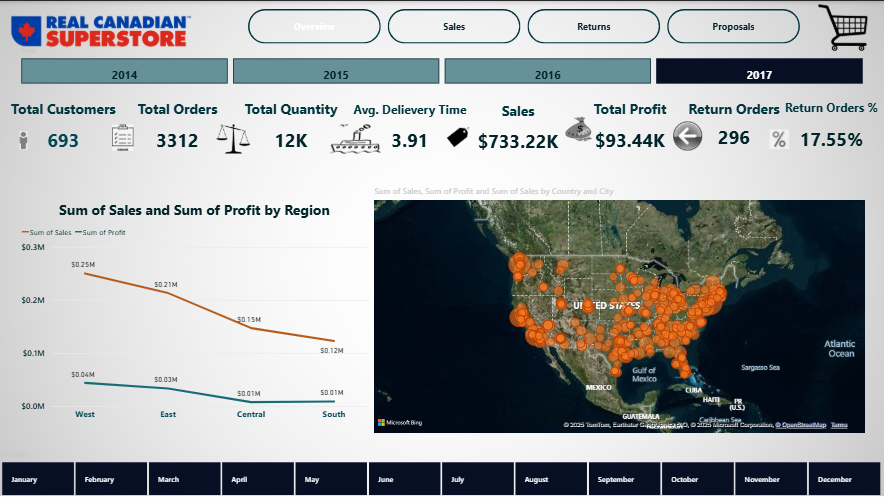

The dashboard page shown, as its layout file describes it:
{"tool":"powerbi","page":{"name":"Overview","canvas":[1280,720],"ordinal":0},"visuals":[{"type":"card","title":"Total Customers","fields":{"Values":["Count(Orders.Customer ID)"]},"box":[11.8,141.1,163.1,94],"z":0},{"type":"card","title":"Total Orders","fields":{"Values":["CountNonNull(Orders.Order ID)"]},"box":[174.9,141.7,166.3,94],"z":1000},{"type":"card","title":"Total Quantity","fields":{"Values":["Sum(Orders.Quantity)"]},"box":[341.2,141.7,161.9,94],"z":2000},{"type":"card","title":"Avg. Delievery Time","fields":{"Values":["Avg(Orders.Delivery Time)"]},"box":[503.1,144.6,182.2,91.1],"z":3000},{"type":"card","title":"Sales","fields":{"Values":["Sum(Orders.Sales)"]},"box":[666.5,144.6,167.7,91.1],"z":4000},{"type":"card","title":"Total Profit","fields":{"Values":["Sum(Orders.Profit)"]},"box":[824.1,141.7,176.4,94],"z":5000},{"type":"advancedSlicerVisual","fields":{"Values":["Orders.Order Date.Variation.Date Hierarchy.Year"]},"box":[27.5,62.2,1228.9,62.2],"z":6000},{"type":"card","title":"Return Orders","fields":{"Values":["CountNonNull(Returns.Returned)"]},"box":[987.5,141.7,150.4,83.9],"z":7000},{"type":"advancedSlicerVisual","fields":{"Values":["Orders.Order Date.Variation.Date Hierarchy.Month"]},"box":[0,646.3,1279.5,73.7],"z":8000},{"type":"card","title":"Return Orders %","fields":{"Values":["Orders.% Returned Orders"]},"box":[1127.7,141.7,151.8,94],"z":9000},{"type":"lineChart","fields":{"Category":["Orders.Region"],"Y":["Sum(Orders.Sales)","Sum(Orders.Profit)"]},"box":[27.9,288,509.9,327.7],"z":10000},{"type":"map","fields":{"Category":["Orders.Country","Orders.City"],"Size":["Sum(Orders.Sales)"]},"box":[537.8,266,718.5,362.9],"z":11000},{"type":"image","box":[11.6,182.2,47.7,39],"z":12000},{"type":"image","box":[11.6,11.6,271.8,65.1],"z":13000},{"type":"pageNavigator","box":[360,11.6,799.5,50.6],"z":14000},{"type":"image","box":[147.5,173.5,62.2,47.7],"z":15000},{"type":"image","box":[1159.5,0,120,76.6],"z":16000},{"type":"image","box":[465.5,173.5,98.3,52],"z":17000},{"type":"image","box":[302.2,173.5,73.7,52],"z":18000},{"type":"image","box":[641.9,169.2,43.4,56.4],"z":19000},{"type":"image","box":[814,144.6,47.7,81],"z":20000},{"type":"image","box":[968.7,169.2,54.9,52],"z":21000},{"type":"image","box":[1108.9,164.8,37.6,69.4],"z":22000}]}

Visuals, with their boxes in screenshot pixels (x1, y1, x2, y2), scaled from the page's 1280x720 canvas onto the 884x497 screenshot:
"Total Customers" card: [8, 97, 121, 162]
"Total Orders" card: [121, 98, 236, 163]
"Total Quantity" card: [236, 98, 347, 163]
"Avg. Delievery Time" card: [347, 100, 473, 163]
"Sales" card: [460, 100, 576, 163]
"Total Profit" card: [569, 98, 691, 163]
advancedSlicerVisual - Orders.Order Date.Variation.Date Hierarchy.Year: [19, 43, 868, 86]
"Return Orders" card: [682, 98, 786, 156]
advancedSlicerVisual - Orders.Order Date.Variation.Date Hierarchy.Month: [0, 446, 883, 496]
"Return Orders %" card: [779, 98, 883, 163]
lineChart - Orders.Region x Sum(Orders.Sales): [19, 199, 371, 425]
map - Orders.Country x Orders.City: [371, 184, 868, 434]
image: [8, 126, 41, 153]
image: [8, 8, 196, 53]
pageNavigator: [249, 8, 801, 43]
image: [102, 120, 145, 153]
image: [801, 0, 883, 53]
image: [321, 120, 389, 156]
image: [209, 120, 260, 156]
image: [443, 117, 473, 156]
image: [562, 100, 595, 156]
image: [669, 117, 707, 153]
image: [766, 114, 792, 162]
